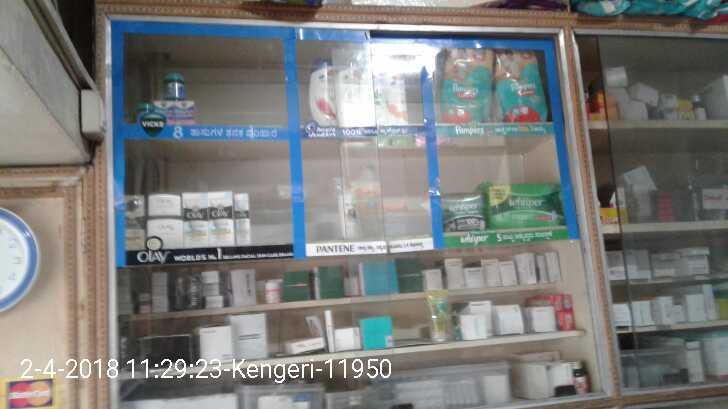vicks: (134, 72, 195, 127)
